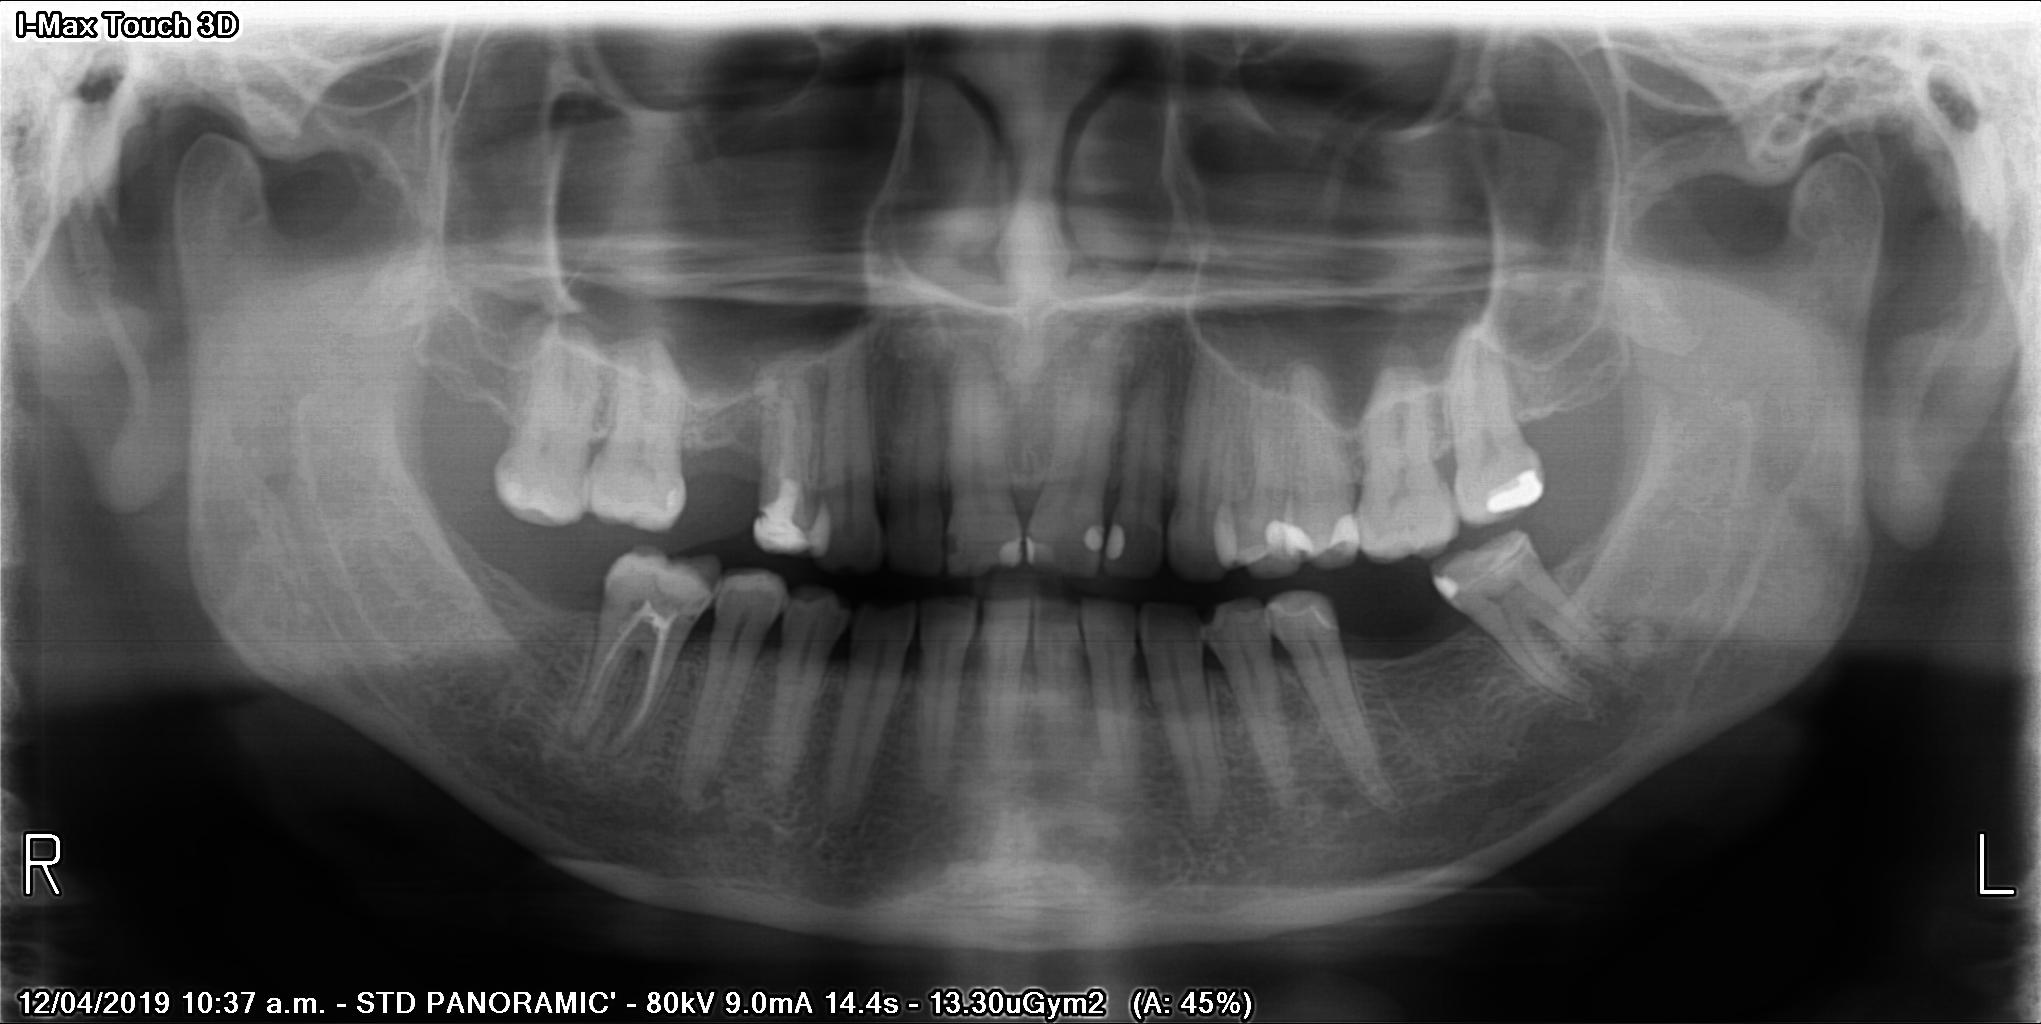Çürük: (1478, 458, 1547, 519), (756, 482, 807, 558), (807, 503, 836, 560), (1426, 576, 1465, 602), (1103, 525, 1126, 563), (1028, 543, 1056, 563), (1083, 522, 1101, 552), (1002, 539, 1021, 563)
Çürük Bölgesi: (941, 528, 966, 560)
